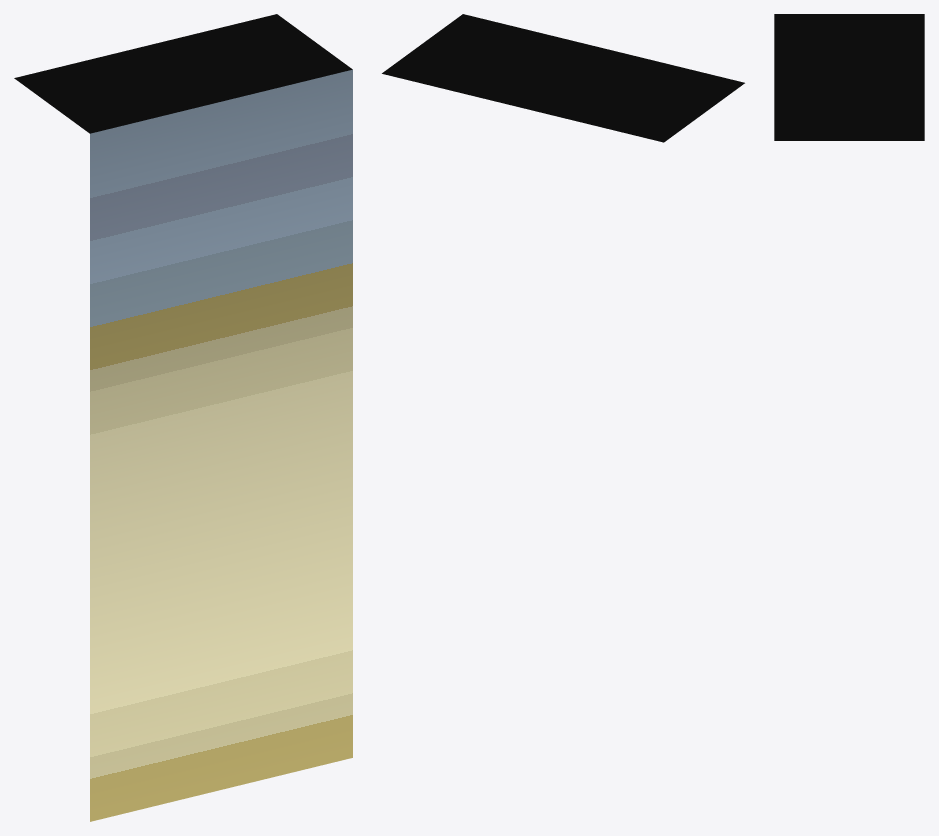
3 renders of one model, left to right at view 1: azimuth 30°, elevation 25°; view 2: azimuth 150°, elevation 25°; view 3: azimuth 270°, elevation 25°, orthographic. The views are drawn at different scales.
Bounding box in the file's own units: 1 × 2.5 × 0.5.
1 material, 1 textured.
